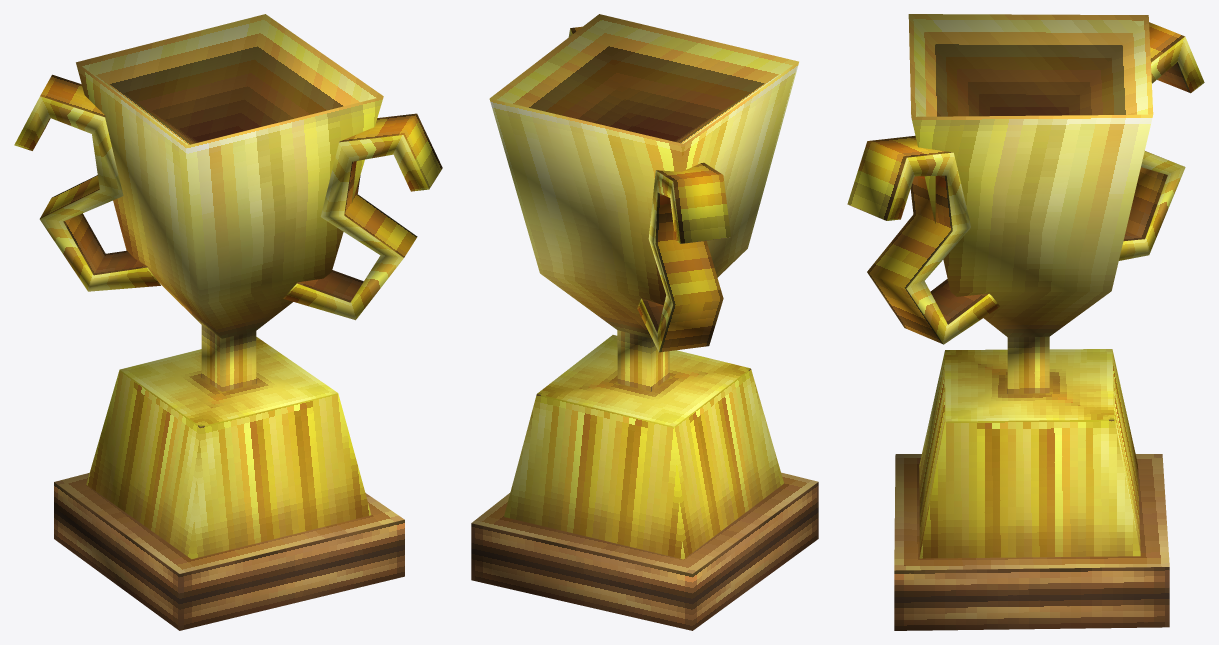
Rendered from a_SCgen12.glb.
The picture shows the model from 3 angles, left to right: view 1: azimuth 30°, elevation 25°; view 2: azimuth 150°, elevation 25°; view 3: azimuth 270°, elevation 25°; orthographic projection. The views are drawn at different scales.
Parts seen in each view (by area): view 1: a_SCgen12; view 2: a_SCgen12; view 3: a_SCgen12.
Boxes of the visible parts, x1=… form: a_SCgen12: x1=14, y1=14, x2=442, y2=630; a_SCgen12: x1=471, y1=14, x2=818, y2=630; a_SCgen12: x1=847, y1=14, x2=1204, y2=630.
Size of the model in its own units: 0.3293 by 0.5041 by 0.3218.
Materials: 1 (1 with a texture image).
